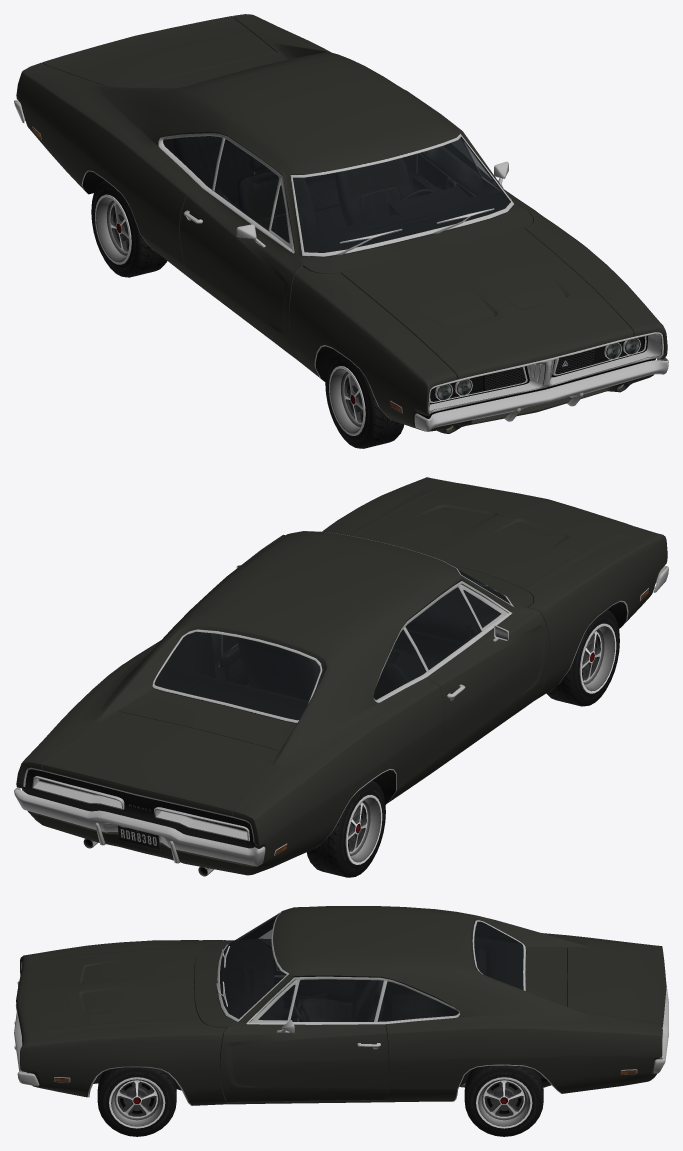
File: duke-69-low-poly-model-46fed7.glb
3 renders of one model, top to bottom at view 1: azimuth 30°, elevation 25°; view 2: azimuth 150°, elevation 25°; view 3: azimuth 270°, elevation 25°, orthographic. The views are drawn at different scales.
Parts seen in each view (by area): view 1: body, wheel-front-right, wheel-back-right; view 2: body, wheel-back-right, wheel-front-right; view 3: body, wheel-back-left, wheel-front-left.
Part boxes in pixels (bbox=[...]): body: bbox=[14, 14, 668, 433]; wheel-front-right: bbox=[325, 352, 403, 448]; wheel-back-right: bbox=[91, 180, 167, 277]; body: bbox=[14, 477, 668, 876]; wheel-back-right: bbox=[306, 780, 385, 877]; wheel-front-right: bbox=[546, 609, 619, 706]; body: bbox=[14, 906, 668, 1105]; wheel-back-left: bbox=[464, 1065, 543, 1136]; wheel-front-left: bbox=[97, 1067, 176, 1136].
Bounding box in the file's own units: 1.96 × 1.4 × 5.24.
Materials: 8 (7 with a texture image).
